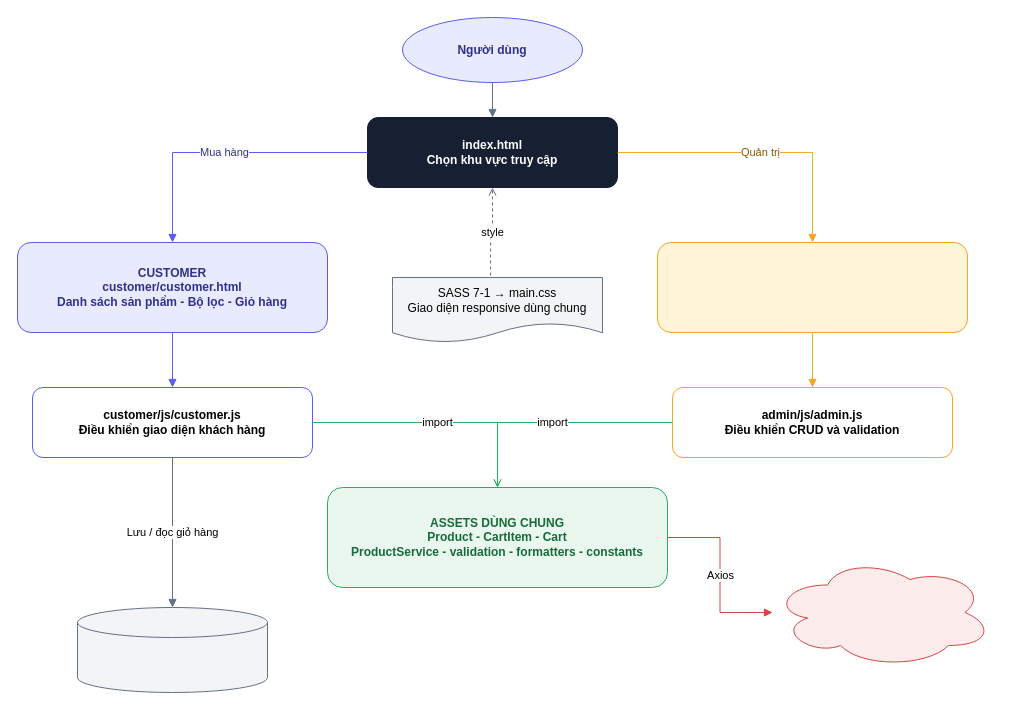
The diagram is 1010 pixels wide and 710 high, and some of its shapes have lost their labels. Each missing label, with the centre of its shape:
"ADMIN admin/admin.html Bảng sản phẩm - Form CRUD - Tìm kiếm - Sắp xếp" belongs at [812,287].
"localStorage capstone_phone_cart" belongs at [172,649].
"MockAPI /api/products GET - POST - PUT - DELETE" belongs at [882,612].
